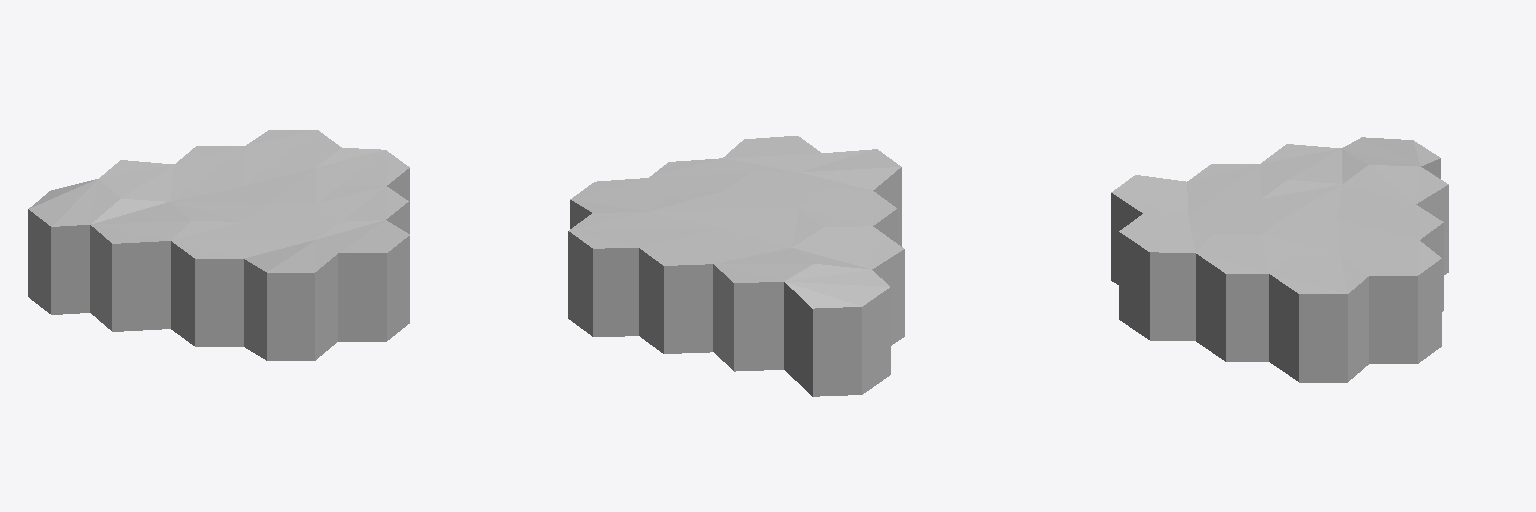
Rendered from hex4.obj.
The picture shows the model from 3 angles: view 1: azimuth 30°, elevation 25°; view 2: azimuth 150°, elevation 25°; view 3: azimuth 270°, elevation 25°; orthographic projection.
Visible parts, largest first — view 1: cell.012_base3.008, cell.006_base2.001, cell.2_base1.001, cell.011_base3.007, cell.007_base3.003, cell.009_base3.005, cell.000_base3.002, cell.010_base3.006, cell.5_base3.001, cell.008_base3.004, cell.3_base2, cell.1_base1 (+1 smaller); view 2: cell.007_base3.003, cell.5_base3.001, cell.008_base3.004, cell.000_base3.002, cell.006_base2.001, cell.012_base3.008, cell.2_base1.001, cell.3_base2, cell.009_base3.005, cell.4_base3, cell.011_base3.007, cell.1_base1 (+1 smaller); view 3: cell.009_base3.005, cell.011_base3.007, cell.008_base3.004, cell.010_base3.006, cell.000_base3.002, cell.012_base3.008, cell.5_base3.001, cell.006_base2.001, cell.3_base2, cell.4_base3, cell.2_base1.001, cell.1_base1 (+1 smaller).
Part boxes in pixels (bbox=[...]): cell.012_base3.008: bbox=[244, 240, 337, 360]; cell.006_base2.001: bbox=[90, 199, 190, 331]; cell.2_base1.001: bbox=[171, 221, 267, 346]; cell.011_base3.007: bbox=[317, 220, 409, 341]; cell.007_base3.003: bbox=[28, 179, 120, 314]; cell.009_base3.005: bbox=[316, 148, 409, 233]; cell.000_base3.002: bbox=[99, 160, 195, 201]; cell.010_base3.006: bbox=[317, 185, 408, 233]; cell.5_base3.001: bbox=[174, 146, 266, 185]; cell.008_base3.004: bbox=[246, 130, 341, 167]; cell.3_base2: bbox=[170, 185, 266, 221]; cell.1_base1: bbox=[244, 204, 340, 239]; cell.007_base3.003: bbox=[784, 264, 890, 396]; cell.5_base3.001: bbox=[639, 228, 742, 353]; cell.008_base3.004: bbox=[568, 212, 671, 336]; cell.000_base3.002: bbox=[713, 246, 813, 371]; cell.006_base2.001: bbox=[792, 226, 904, 345]; cell.012_base3.008: bbox=[799, 149, 901, 246]; cell.2_base1.001: bbox=[800, 190, 896, 242]; cell.3_base2: bbox=[723, 208, 823, 247]; cell.009_base3.005: bbox=[570, 178, 671, 228]; cell.4_base3: bbox=[648, 190, 749, 229]; cell.011_base3.007: bbox=[723, 136, 821, 171]; cell.1_base1: bbox=[726, 172, 822, 207]; cell.009_base3.005: bbox=[1269, 255, 1368, 382]; cell.011_base3.007: bbox=[1119, 214, 1211, 340]; cell.008_base3.004: bbox=[1340, 238, 1441, 363]; cell.010_base3.006: bbox=[1196, 235, 1291, 361]; cell.000_base3.002: bbox=[1343, 165, 1448, 274]; cell.012_base3.008: bbox=[1111, 175, 1211, 284]; cell.5_base3.001: bbox=[1337, 203, 1443, 311]; cell.006_base2.001: bbox=[1261, 144, 1367, 183]; cell.3_base2: bbox=[1262, 180, 1363, 219]; cell.4_base3: bbox=[1261, 217, 1363, 254]; cell.2_base1.001: bbox=[1187, 164, 1287, 198]; cell.1_base1: bbox=[1189, 199, 1284, 234].
Size of the model in its own units: 7.77 by 2.33 by 6.94.